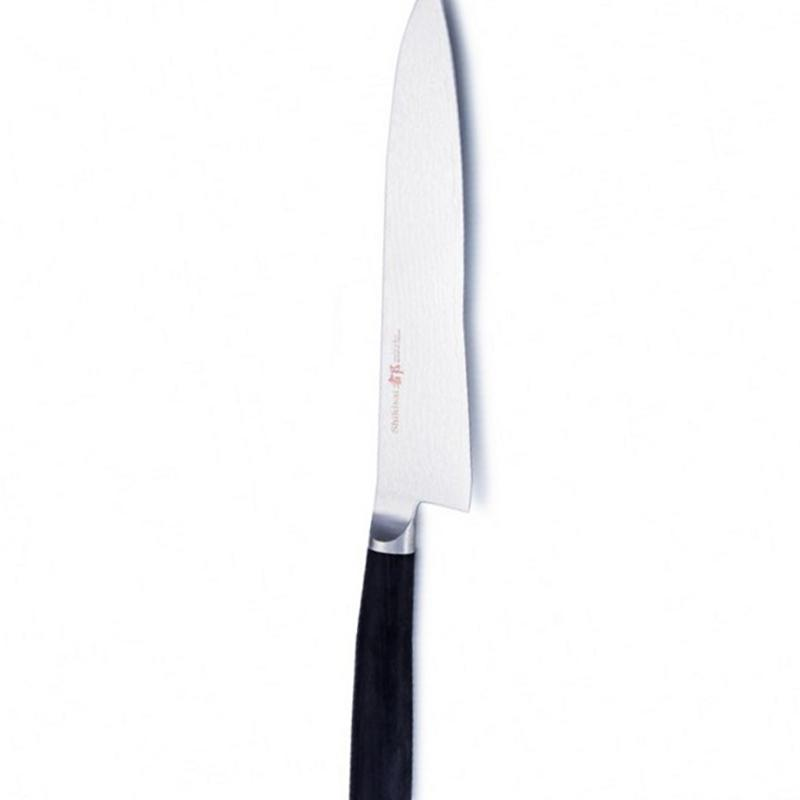knife: (350, 2, 474, 800)
